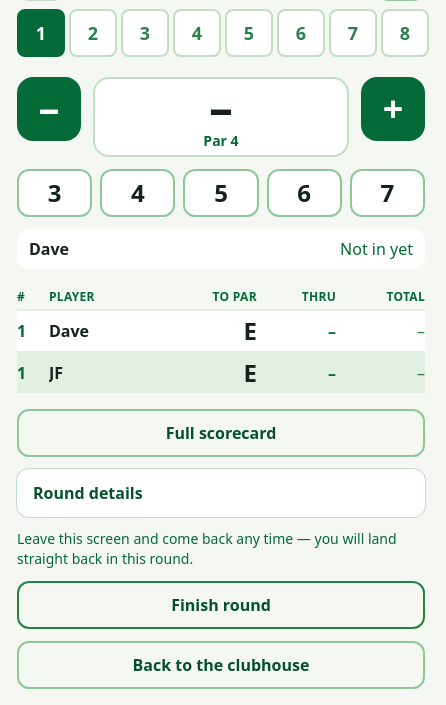
Test: finishing a round › lets the host change their mind
(page scrolled)
Click the button "Finish round" at (221, 605), box [17,581,425,629]
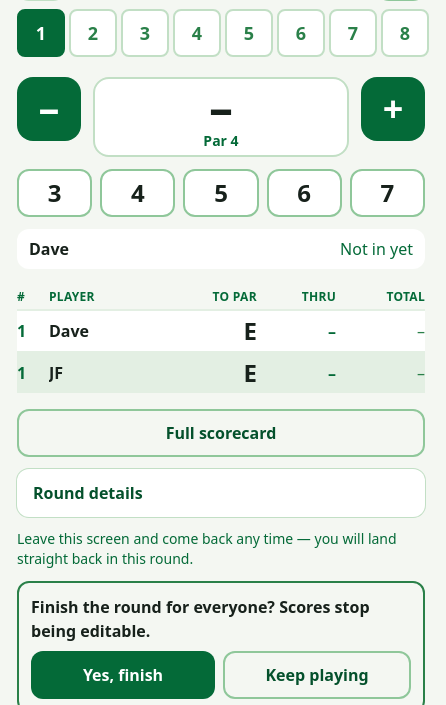
Click the button "Keep playing" at (317, 675), box [223,651,411,699]
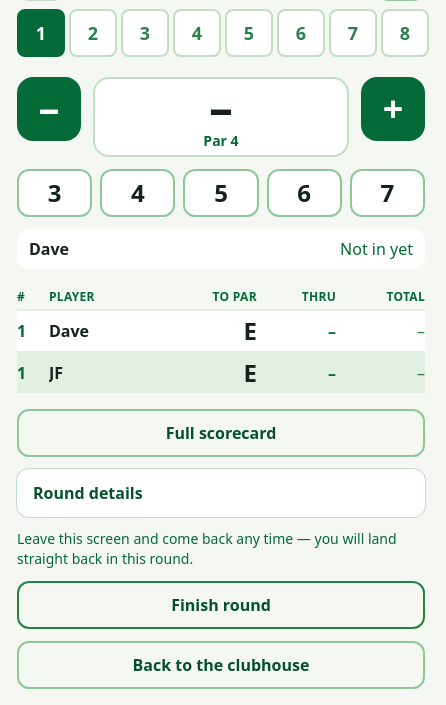
Now the button "Finish round" is shown, box [17,581,425,629]
